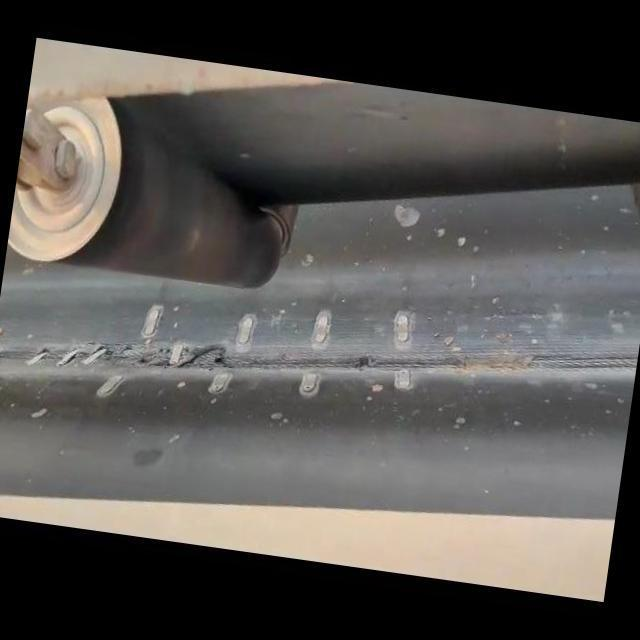Tear: (138, 345, 242, 377)
Wear: (0, 334, 640, 386)
